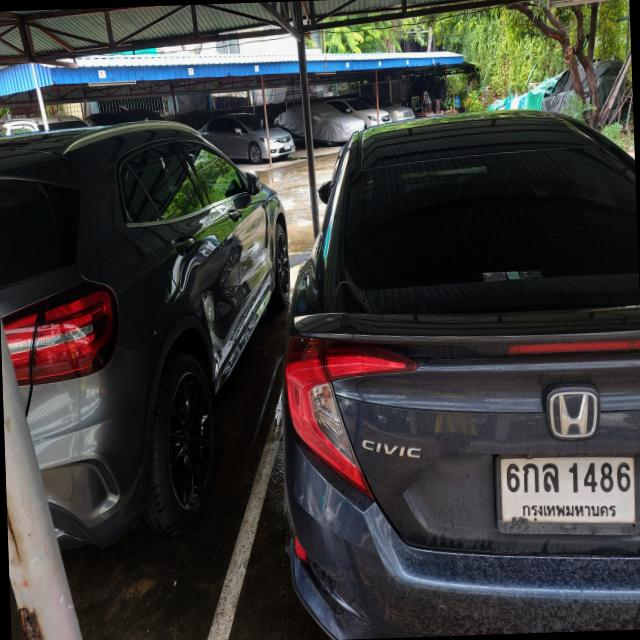license_plate: (493, 447, 640, 540)
